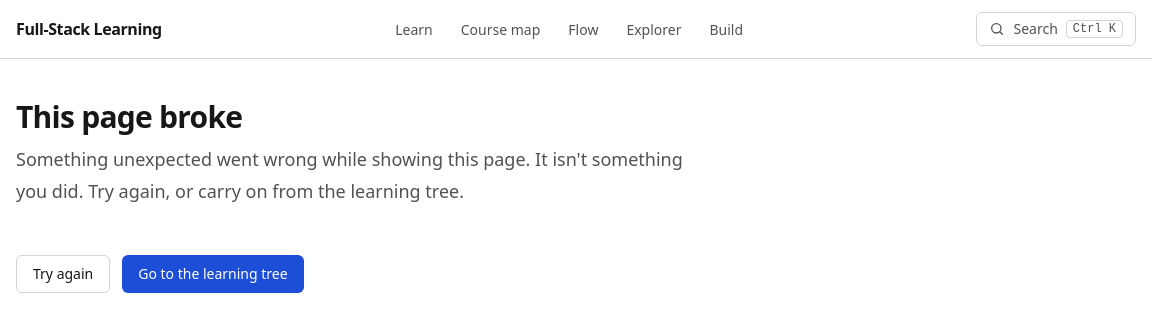
RouteErrorBoundary › starts fresh after navigating to another page
Check: the heading "This page broke" is shown, box 16,96 -> 242,137
The header still works, and the next page isn't stuck on the error.
Click the link "Learn" at x=414, y=30, box 395,20 -> 433,39
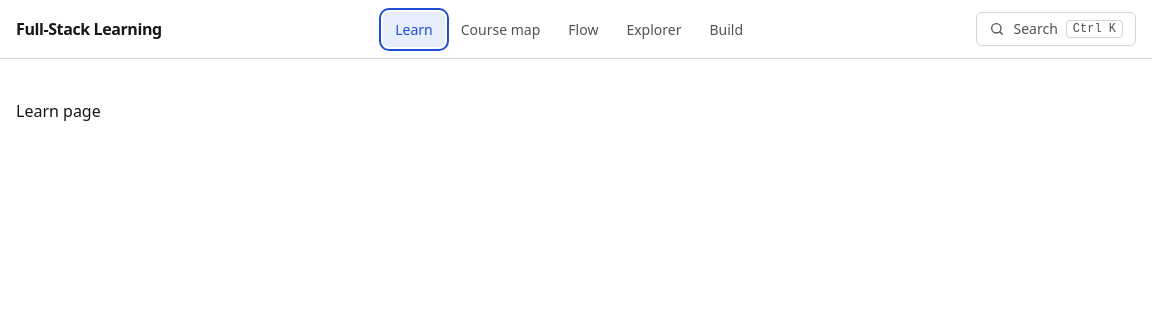
Check: the heading "Learn page" is shown, box 16,100 -> 101,122
Check: the heading "This page broke" is gone
